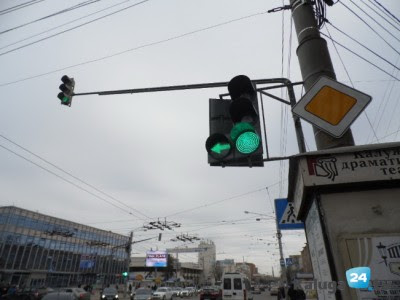crosswalk: (275, 197, 300, 228)
priority_road: (293, 79, 370, 133)
trafficlight_green: (232, 80, 260, 161), (207, 100, 231, 163)
